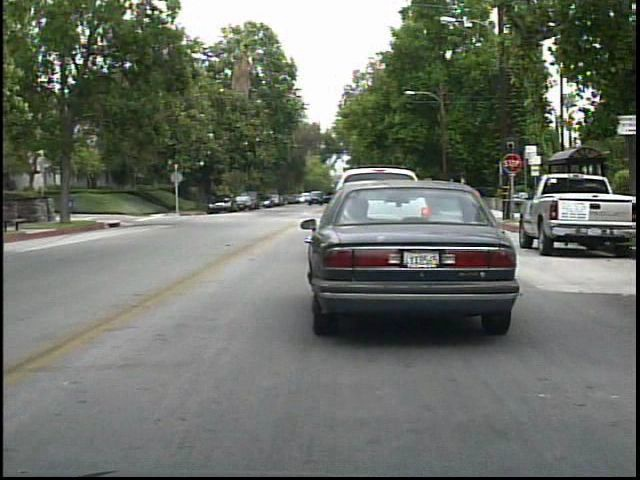person: (239, 185, 254, 211)
